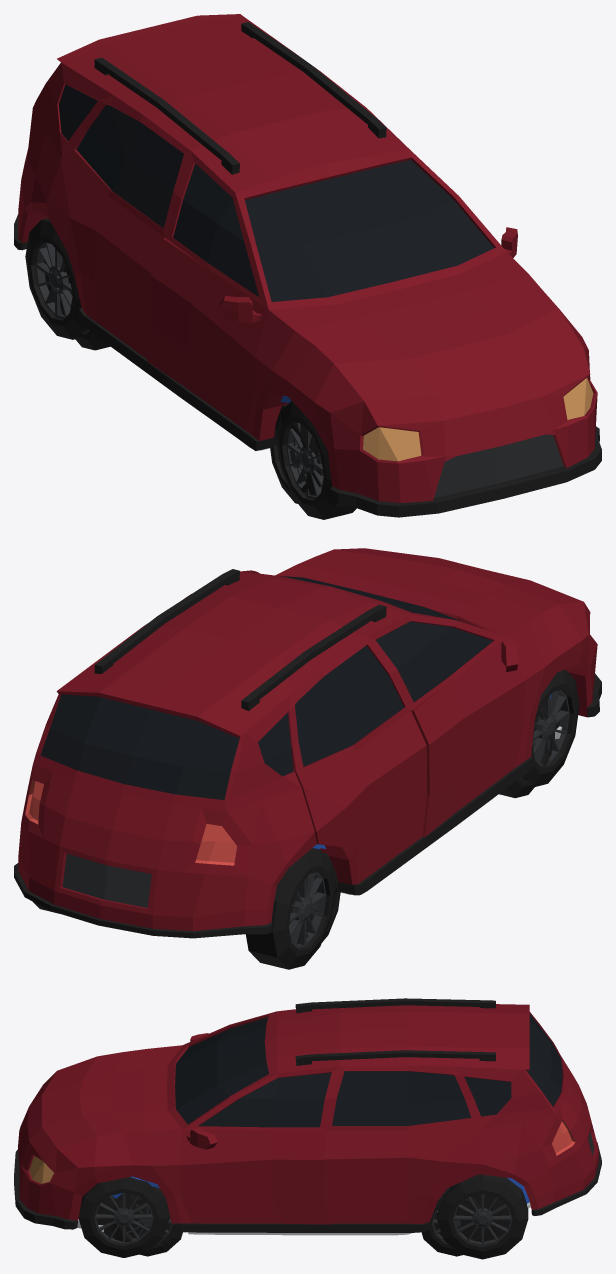
File: vehicles.glb
3 renders of one model, top to bottom at view 1: azimuth 30°, elevation 25°; view 2: azimuth 150°, elevation 25°; view 3: azimuth 270°, elevation 25°, orthographic. The views are drawn at different scales.
Visible parts, largest first — view 1: SUV_Cube, NormalCar2_Cube.002; view 2: SUV_Cube, NormalCar2_Cube.002; view 3: SUV_Cube, NormalCar2_Cube.002.
Boxes of the visible parts, x1,y1,x2,y2 form: SUV_Cube: (14, 14, 601, 519); NormalCar2_Cube.002: (60, 260, 323, 503); SUV_Cube: (14, 548, 601, 969); NormalCar2_Cube.002: (297, 694, 561, 943); SUV_Cube: (14, 998, 601, 1259); NormalCar2_Cube.002: (77, 1176, 530, 1256).
Size of the model in its own units: 2.1 by 1.75 by 4.92.
